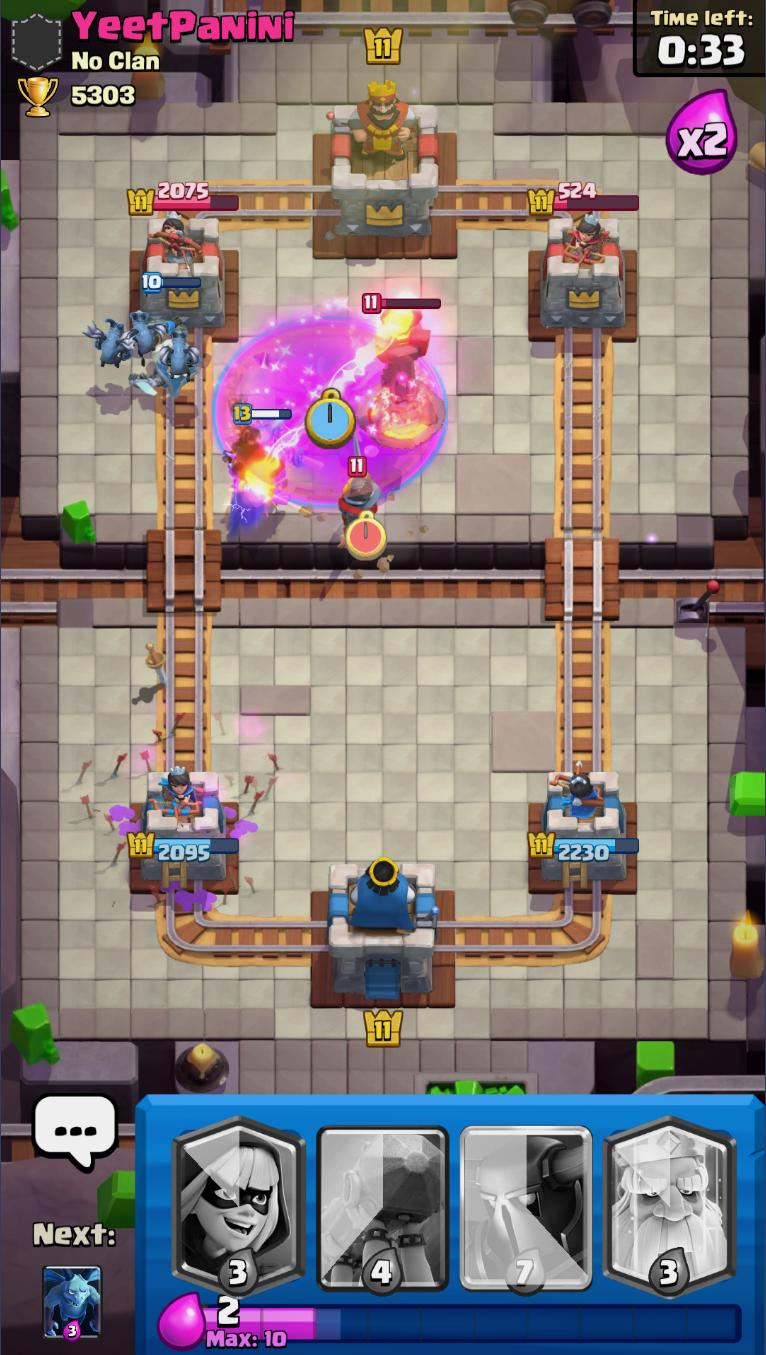Arrows: (74, 728, 282, 907)
BanditDeck: (167, 1095, 310, 1296)
Elixir: (203, 1295, 744, 1350)
Empty: (311, 1095, 455, 1296)
EnemyTower: (533, 214, 631, 331), (136, 214, 227, 331)
KingTower: (326, 80, 443, 243)
Knight: (337, 432, 383, 549)
MinionsNext: (41, 1264, 103, 1343)
MyElectroSpirit: (226, 493, 265, 532)
MyKingTower: (326, 858, 440, 1000)
MyMinion: (84, 315, 135, 369), (152, 326, 203, 377), (124, 310, 169, 365)
MyPekka: (355, 292, 445, 452), (229, 404, 325, 516)
MyPrincessTower: (126, 768, 240, 886), (528, 770, 640, 886)
MyPrincessTowerHP: (126, 830, 239, 862), (527, 832, 640, 862)
MyRoyaleGhost: (135, 272, 193, 399)
PekkaDeck: (456, 1094, 598, 1295)
PrincessTower: (150, 214, 205, 270), (552, 213, 607, 267)
Rage: (213, 315, 446, 507)
RoyaleGhostDeck: (598, 1094, 742, 1296)
TowerPrincessHP: (527, 182, 640, 216), (127, 182, 240, 216)
